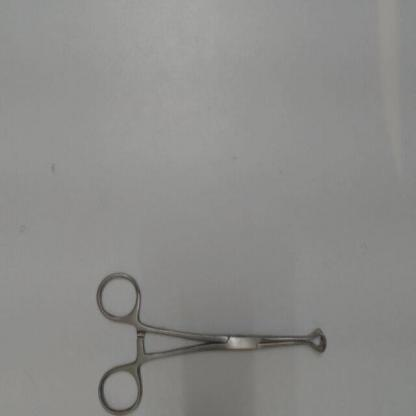Babcock Tissue Forceps: (90, 264, 329, 414)
